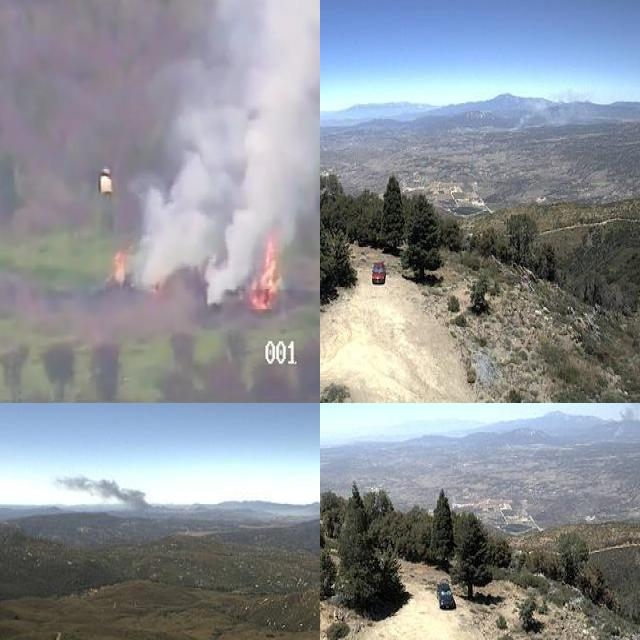smoke: (126, 0, 320, 306), (50, 471, 155, 518), (503, 85, 592, 136), (603, 403, 640, 444)
